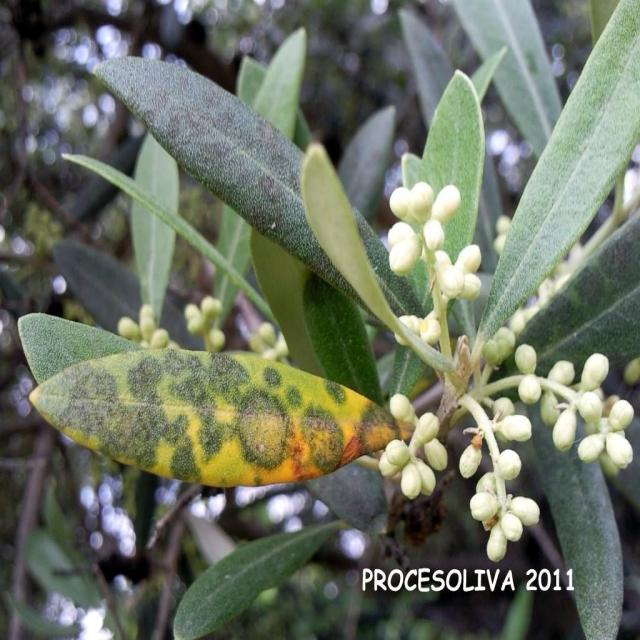Healthy: (479, 0, 639, 339), (174, 521, 342, 639)
Peacock Eye: (30, 349, 409, 487), (96, 58, 319, 262)
